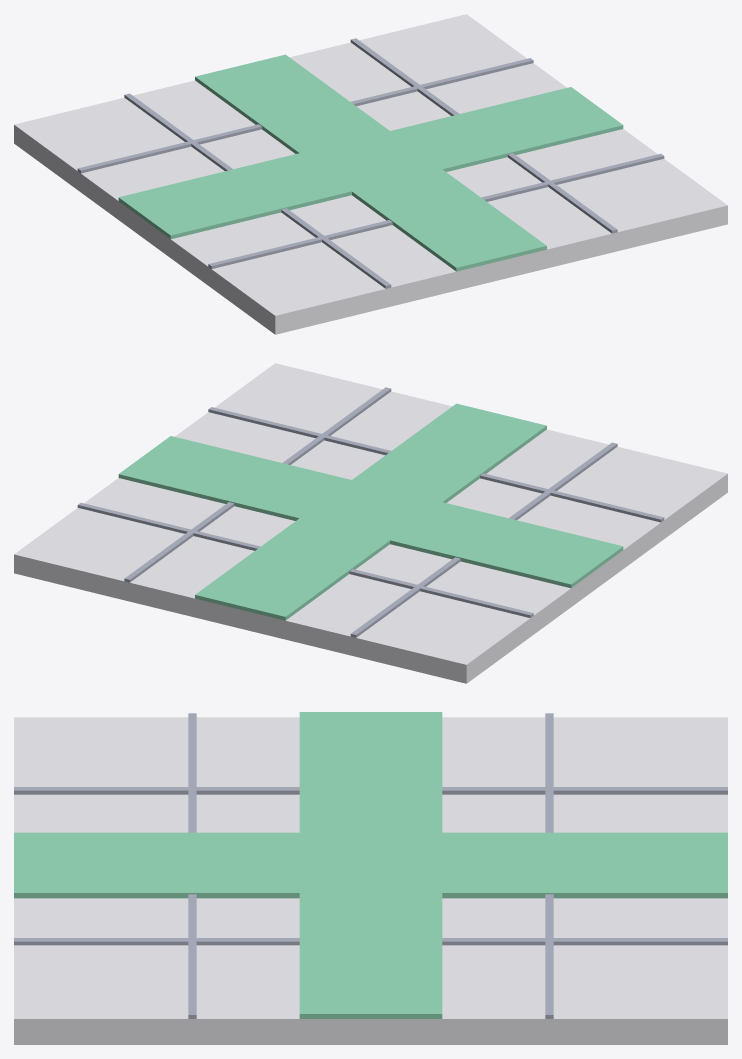
Rendered from walkway-1x1-crossroad.glb.
The picture shows the model from 3 angles, top to bottom: view 1: azimuth 30°, elevation 25°; view 2: azimuth 150°, elevation 25°; view 3: azimuth 270°, elevation 25°; orthographic projection. The views are drawn at different scales.
Visible parts, largest first — view 1: walkway-1x1-crossroad; view 2: walkway-1x1-crossroad; view 3: walkway-1x1-crossroad.
Boxes of the visible parts, x1=… form: walkway-1x1-crossroad: x1=14, y1=14, x2=727, y2=334; walkway-1x1-crossroad: x1=14, y1=363, x2=727, y2=683; walkway-1x1-crossroad: x1=14, y1=712, x2=727, y2=1044.
Size of the model in its own units: 1 by 0.048 by 1.
1 material, 1 textured.
